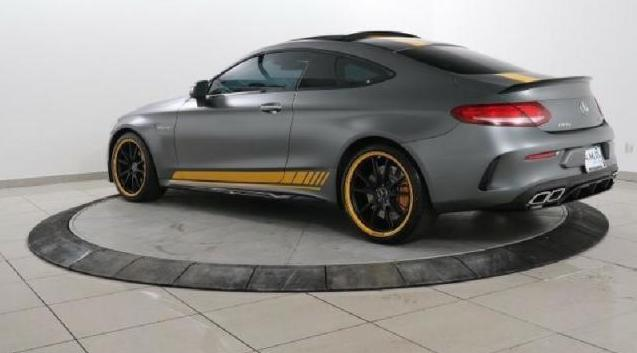C63AMG: (106, 22, 625, 243)
